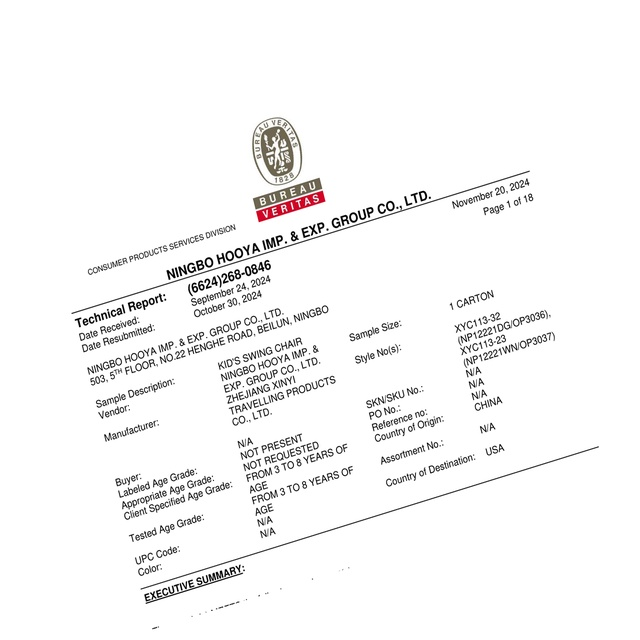bureau_veritas: (247, 116, 327, 222)
